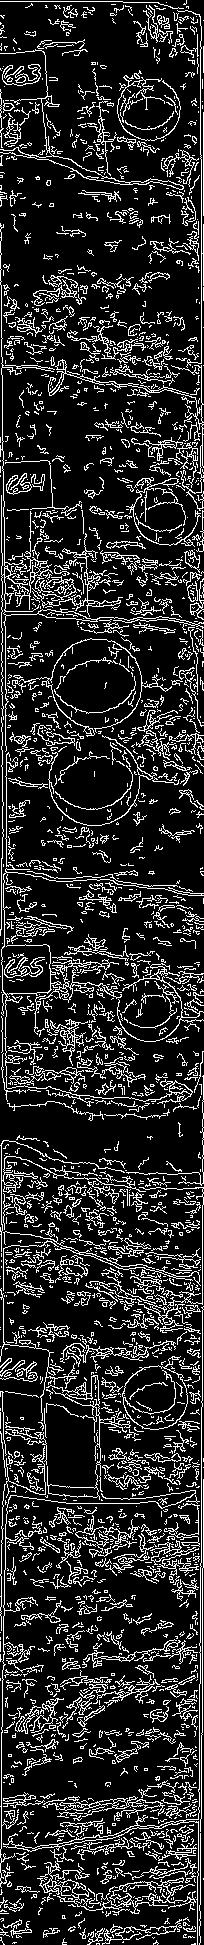hplug: (124, 478, 204, 548), (119, 1363, 193, 1436), (113, 972, 187, 1043), (111, 71, 183, 141)
scal: (44, 736, 143, 834), (47, 635, 146, 731)
vplug: (34, 38, 109, 185), (34, 1364, 111, 1505), (22, 958, 83, 1102), (22, 499, 93, 619)
